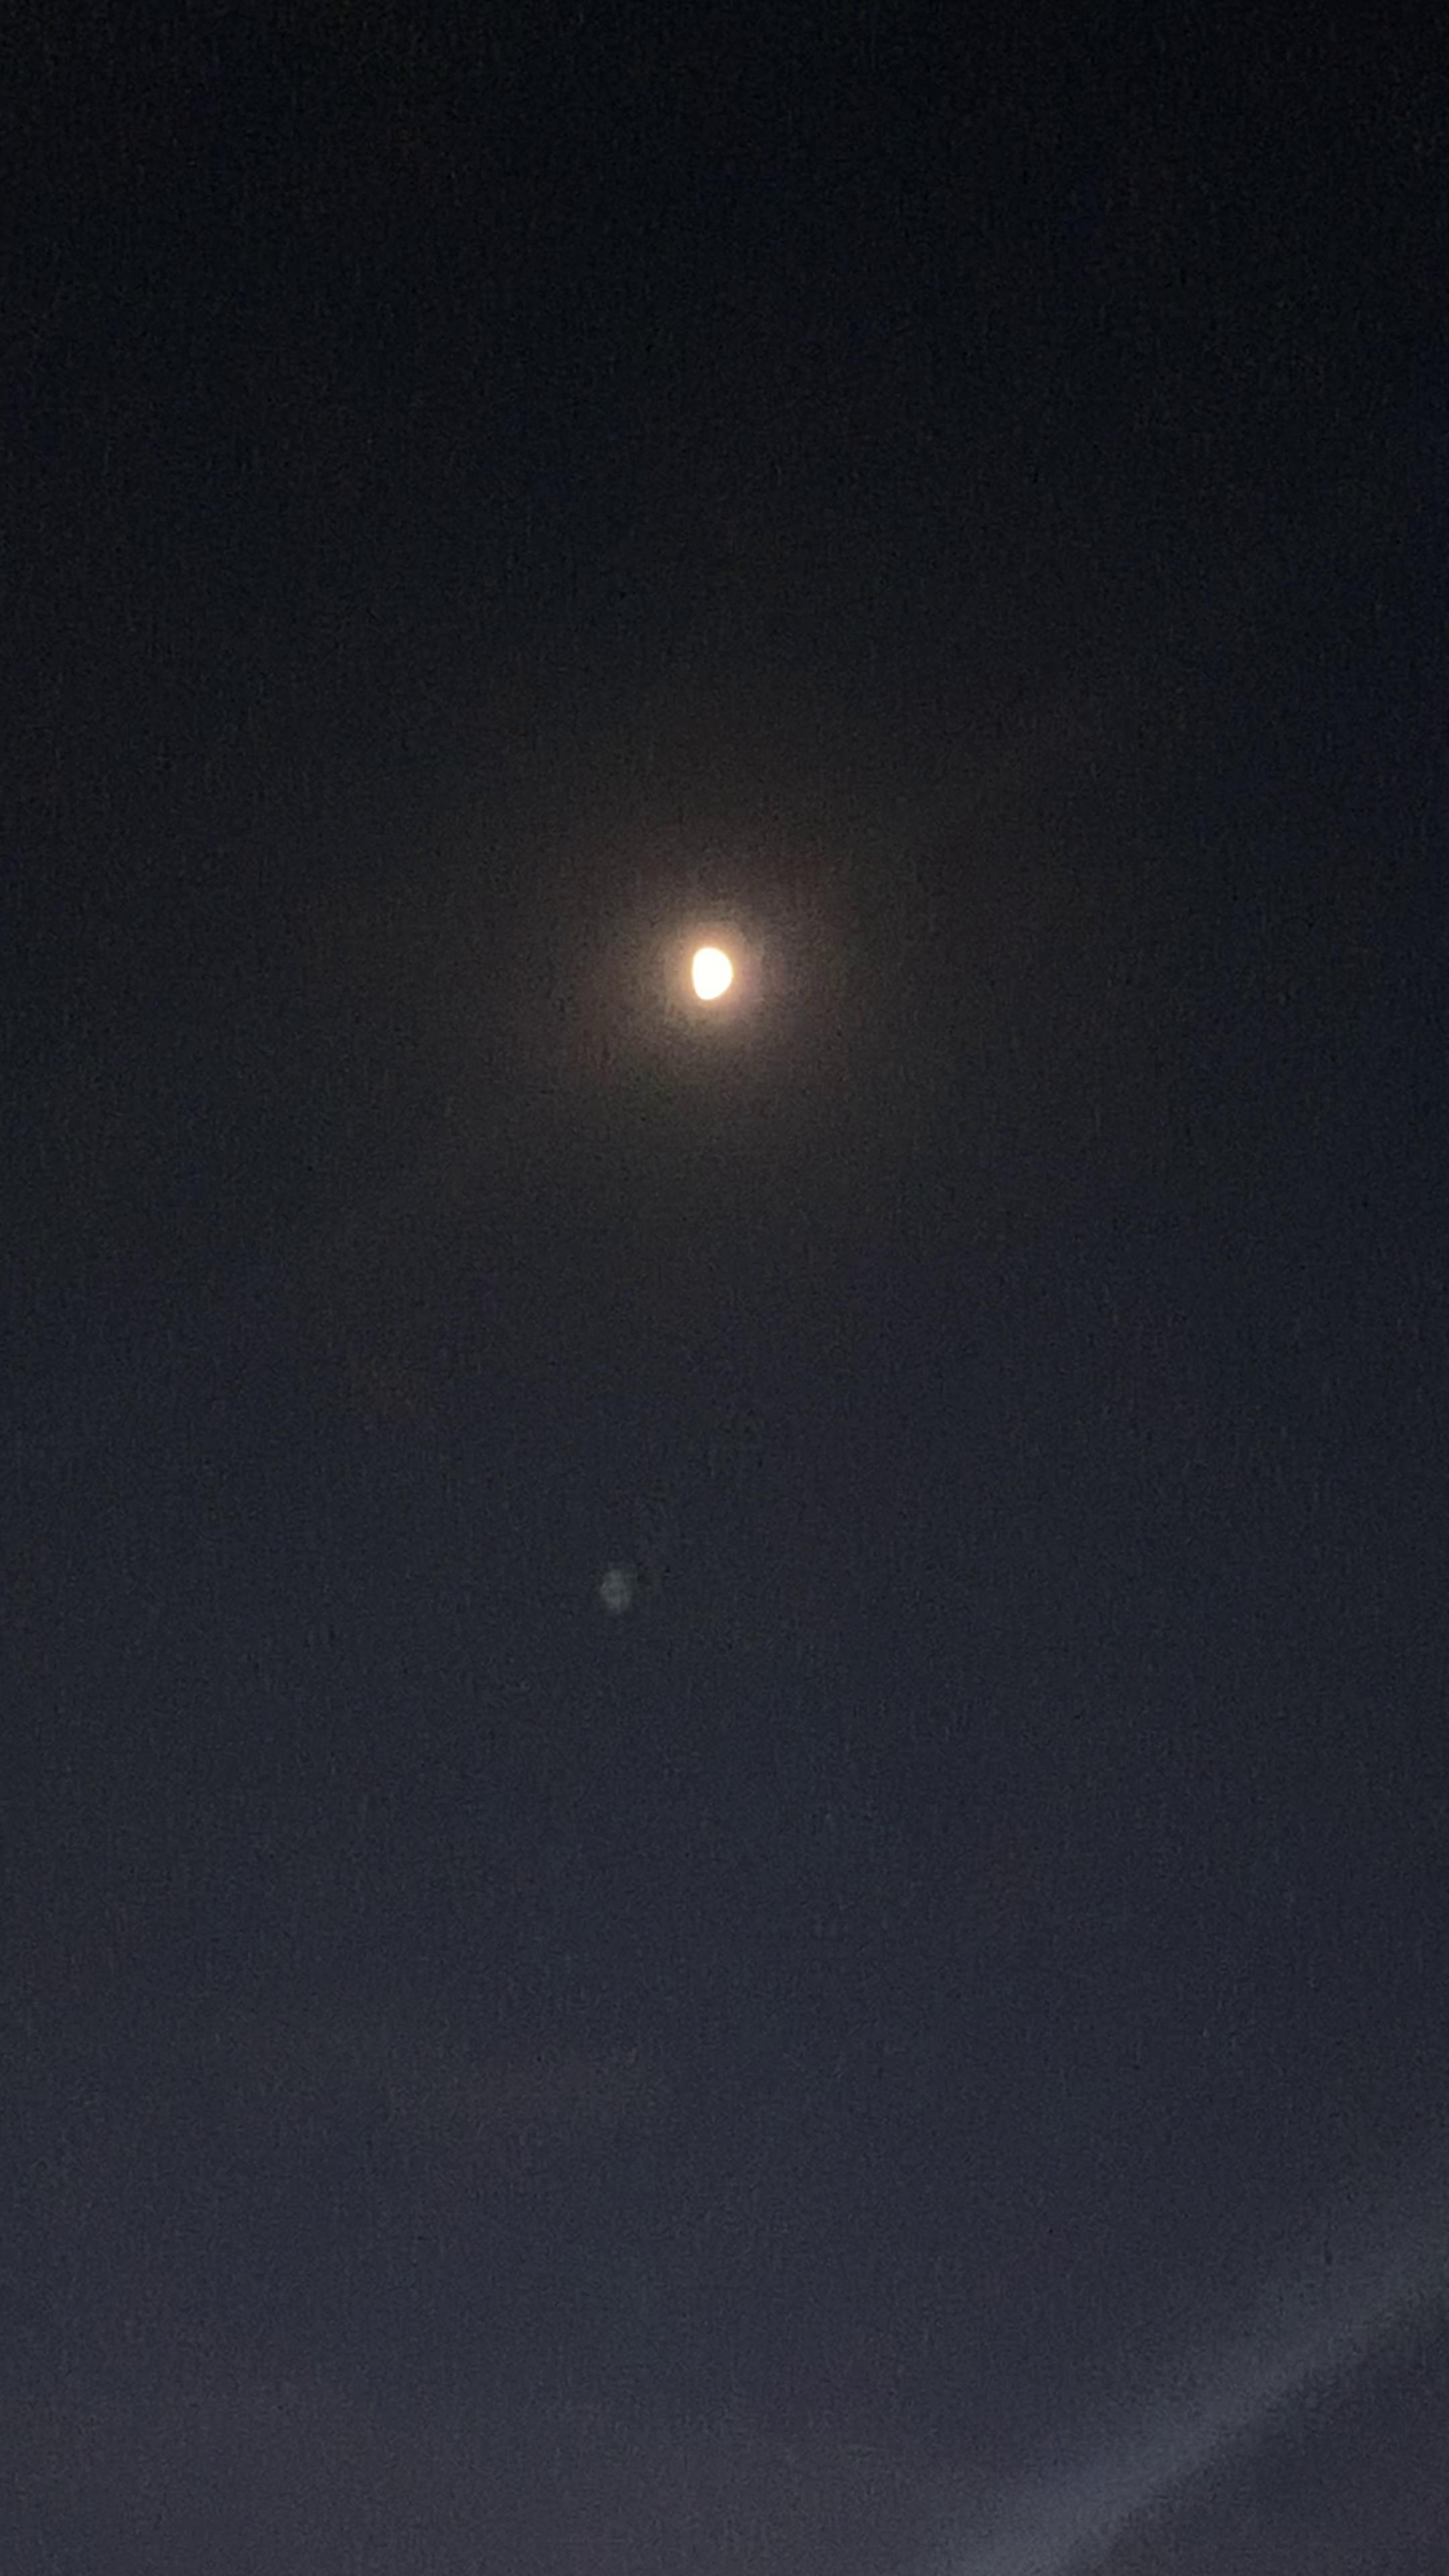moon: (667, 908, 768, 1026)
